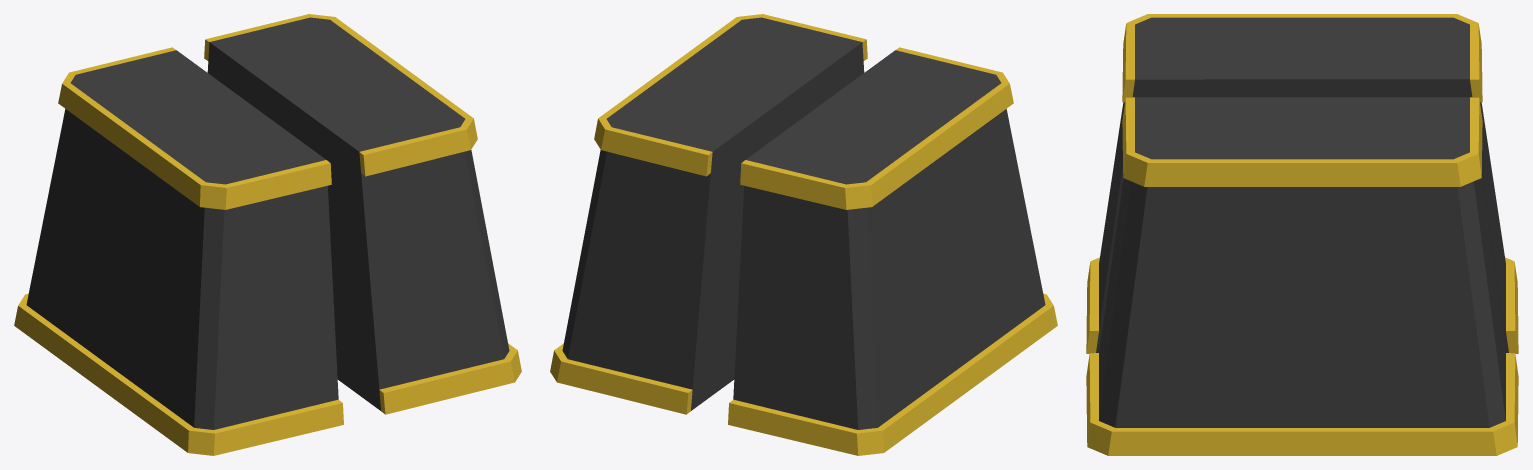
Rendered from Model_Obelisk_Stage2.fbx.
3 views of the same model, side by side, from view 1: azimuth 30°, elevation 25°; view 2: azimuth 150°, elevation 25°; view 3: azimuth 270°, elevation 25° (orthographic). The views are drawn at different scales.
Parts seen in each view (by area): view 1: Obelisk Stage 2; view 2: Obelisk Stage 2; view 3: Obelisk Stage 2.
Boxes of the visible parts, x1,y1,x2,y2 form: Obelisk Stage 2: [14, 14, 521, 455]; Obelisk Stage 2: [550, 14, 1057, 455]; Obelisk Stage 2: [1086, 14, 1518, 455].
Size of the model in its own units: 900 by 639 by 904.
